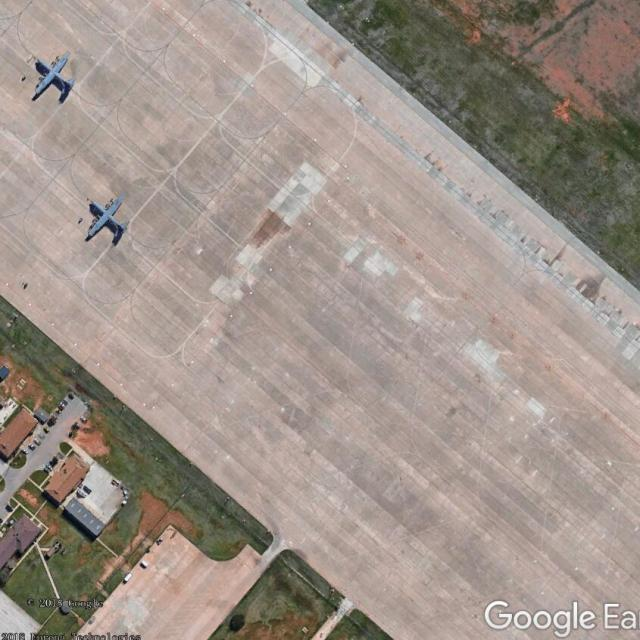fighter jet: (27, 59, 80, 106), (86, 192, 132, 246)
